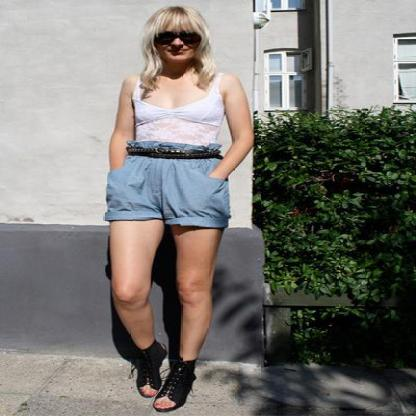shirt: (134, 75, 229, 150)
shoe: (130, 341, 197, 407)
shorts: (104, 141, 231, 226)
sunglass: (153, 30, 201, 58)
